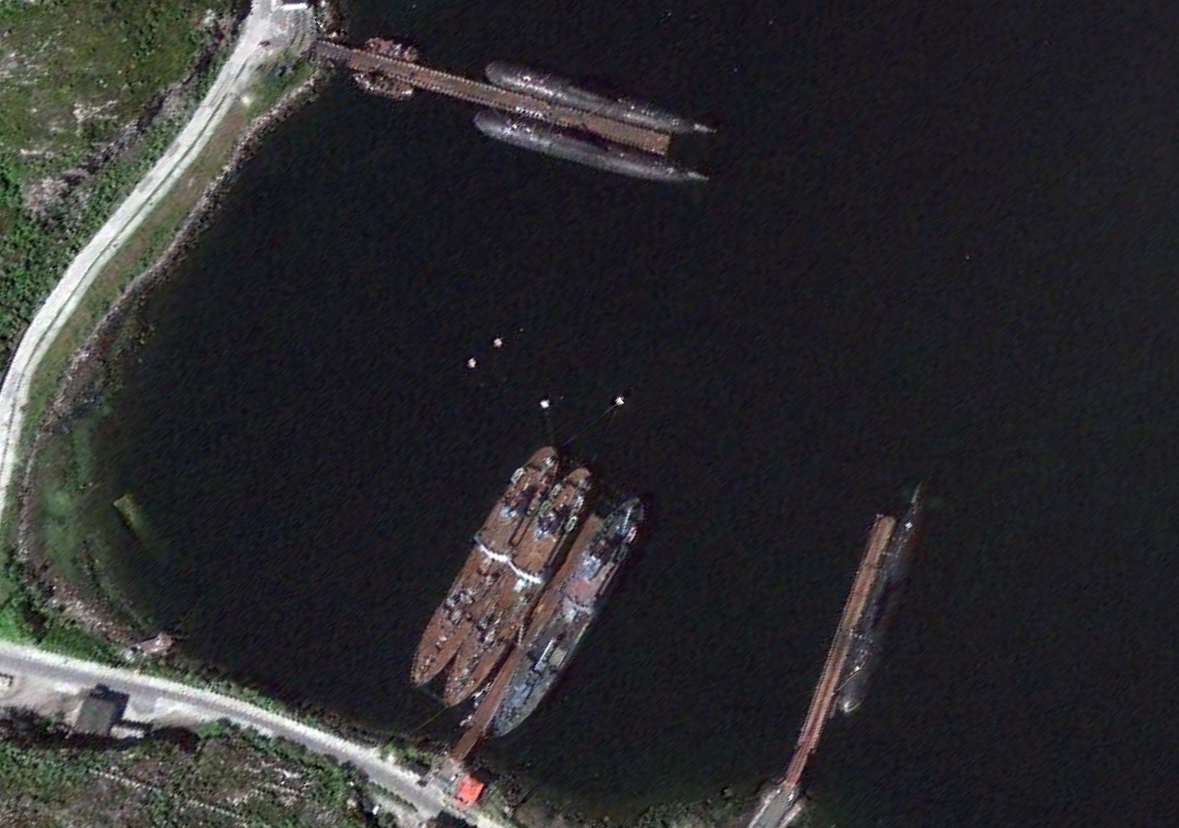merchant ship: (441, 464, 592, 707), (491, 497, 642, 740), (408, 446, 558, 690), (352, 69, 412, 99), (364, 34, 418, 60)
submarine: (835, 484, 926, 714), (469, 106, 711, 186), (484, 56, 720, 136)
